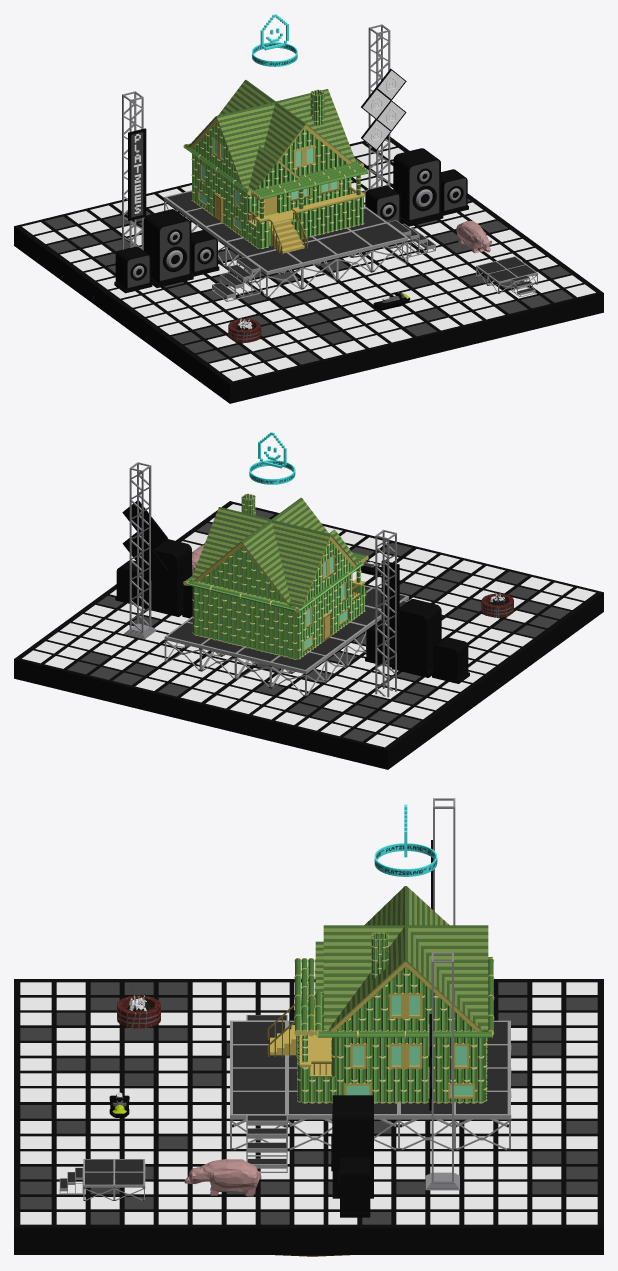
3 views of the same model, one above another, from view 1: azimuth 30°, elevation 25°; view 2: azimuth 150°, elevation 25°; view 3: azimuth 270°, elevation 25° (orthographic). The views are drawn at different scales.
Visible parts, largest first — view 1: Cube.008, Cube.1327, TYPE_PREMIUM, ANIMAL_HIPOPOTAMO, OBJRANDOM_CAMPFIRE; view 2: Cube.008, Cube.1327, TYPE_PREMIUM, OBJRANDOM_CAMPFIRE; view 3: Cube.008, Cube.1327, ANIMAL_HIPOPOTAMO, OBJRANDOM_CAMPFIRE, TYPE_PREMIUM.
Part boxes in pixels (bbox=[...]): Cube.008: bbox=[14, 24, 603, 403]; Cube.1327: bbox=[183, 80, 368, 254]; TYPE_PREMIUM: bbox=[252, 14, 297, 66]; ANIMAL_HIPOPOTAMO: bbox=[456, 220, 491, 253]; OBJRANDOM_CAMPFIRE: bbox=[228, 317, 261, 342]; Cube.008: bbox=[14, 462, 603, 769]; Cube.1327: bbox=[183, 493, 368, 659]; TYPE_PREMIUM: bbox=[249, 432, 295, 484]; OBJRANDOM_CAMPFIRE: bbox=[481, 593, 514, 617]; Cube.008: bbox=[14, 798, 603, 1254]; Cube.1327: bbox=[267, 886, 494, 1103]; ANIMAL_HIPOPOTAMO: bbox=[184, 1159, 261, 1196]; OBJRANDOM_CAMPFIRE: bbox=[117, 993, 160, 1028]; TYPE_PREMIUM: bbox=[374, 804, 437, 876].
Size of the model in its own units: 4000 by 2578 by 4000.
35 materials, 3 textured.
